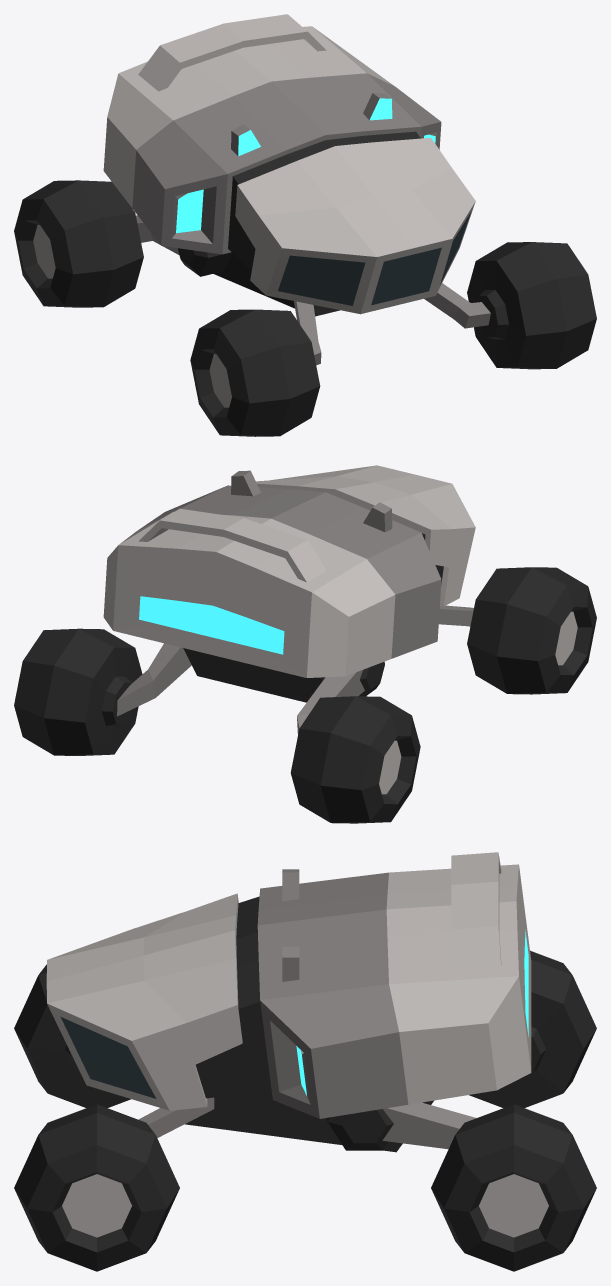
The model's file is scifi_scifi-four-wheel-truck.fbx.
3 renders of one model, top to bottom at view 1: azimuth 30°, elevation 25°; view 2: azimuth 150°, elevation 25°; view 3: azimuth 270°, elevation 25°, orthographic. The views are drawn at different scales.
Visible parts, largest first — view 1: scifi_four_wheel_truck_base, scifi_four_wheel_truck_wheel_FR, scifi_four_wheel_truck_wheel_BR, scifi_four_wheel_truck_wheel_FL; view 2: scifi_four_wheel_truck_base, scifi_four_wheel_truck_wheel_BR, scifi_four_wheel_truck_wheel_FR, scifi_four_wheel_truck_wheel_BL; view 3: scifi_four_wheel_truck_base, scifi_four_wheel_truck_wheel_BL, scifi_four_wheel_truck_wheel_FL, scifi_four_wheel_truck_wheel_BR, scifi_four_wheel_truck_wheel_FR.
Boxes of the visible parts, x1,y1,x2,y2 form: scifi_four_wheel_truck_base: (103, 14, 490, 365); scifi_four_wheel_truck_wheel_FR: (190, 309, 320, 436); scifi_four_wheel_truck_wheel_BR: (14, 180, 143, 307); scifi_four_wheel_truck_wheel_FL: (467, 242, 596, 369); scifi_four_wheel_truck_base: (103, 465, 475, 734); scifi_four_wheel_truck_wheel_BR: (290, 696, 420, 823); scifi_four_wheel_truck_wheel_FR: (467, 567, 596, 694); scifi_four_wheel_truck_wheel_BL: (14, 628, 142, 755); scifi_four_wheel_truck_base: (46, 852, 531, 1152); scifi_four_wheel_truck_wheel_BL: (431, 1104, 596, 1271); scifi_four_wheel_truck_wheel_FL: (14, 1104, 179, 1271); scifi_four_wheel_truck_wheel_BR: (469, 950, 596, 1107); scifi_four_wheel_truck_wheel_FR: (14, 964, 131, 1107).
Bounding box in the file's own units: 169 × 114 × 200.
